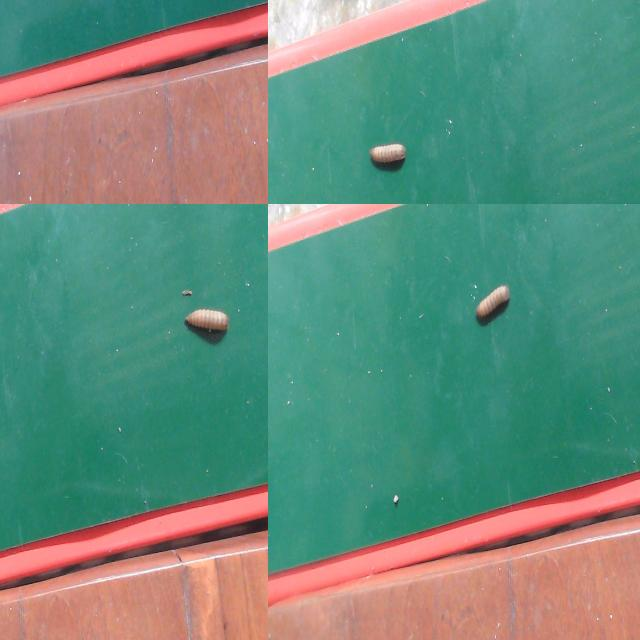Maggot: (183, 307, 231, 346), (475, 285, 513, 328), (369, 143, 407, 173)
